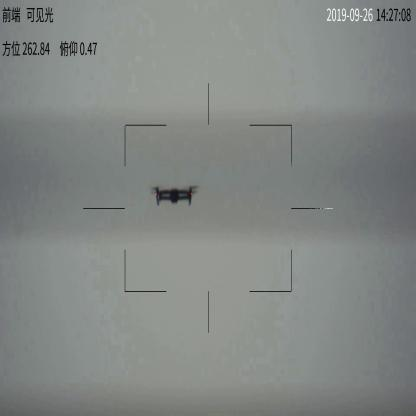uav: (148, 184, 202, 208)
